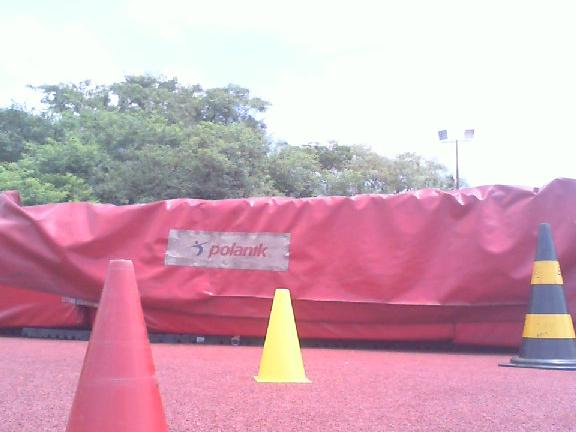0 cone: (41, 259, 182, 432), (498, 223, 576, 370), (254, 288, 309, 383)
